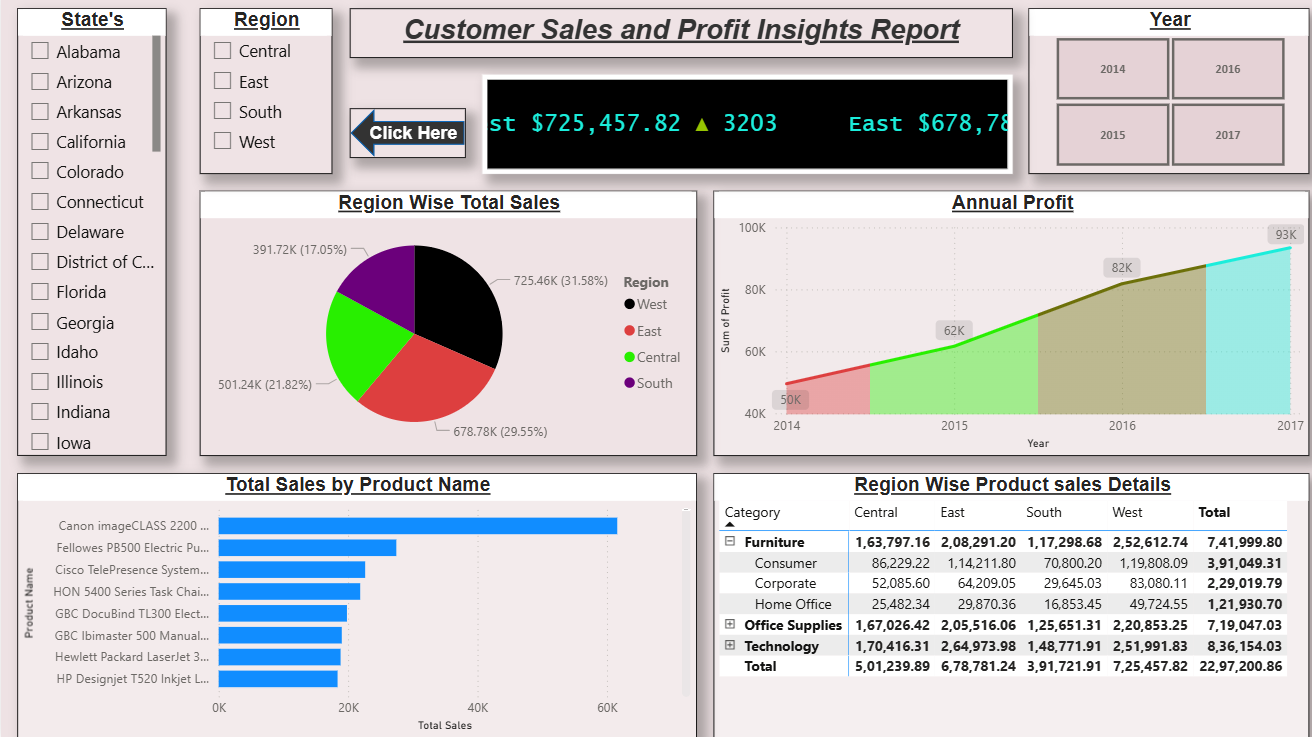

The page's visual inventory and layout, read from the dashboard file:
{"tool":"powerbi","page":{"name":"Report 4","canvas":[1280,720],"ordinal":3},"visuals":[{"type":"pieChart","title":"Region Wise Total Sales","fields":{"Category":["Orders.Region"],"Y":["Orders.Total Sales"]},"box":[192,192,480,256],"z":0},{"type":"lineChart","title":"Annual Profit ","fields":{"Category":["Orders.Order Date.Variation.Date Hierarchy.Year","Orders.Order Date.Variation.Date Hierarchy.Quarter","Orders.Order Date.Variation.Date Hierarchy.Month","Orders.Order Date.Variation.Date Hierarchy.Day"],"Y":["Sum(Orders.Profit)"]},"box":[688,192,576,256],"z":1000},{"type":"pivotTable","title":"Region Wise Product sales Details","fields":{"Rows":["Orders.Category","Orders.Segment"],"Columns":["Orders.Region"],"Values":["Orders.Total Sales"]},"box":[688,464,576,256],"z":2000},{"type":"barChart","fields":{"Category":["Orders.Product Name"],"Y":["Orders.Total Sales"]},"box":[16,464,656,256],"z":3000},{"type":"slicer","title":"Year","fields":{"Values":["Orders.Order Date.Variation.Date Hierarchy.Year"]},"box":[992,16,272,160],"z":4000},{"type":"slicer","title":"State''s","fields":{"Values":["Orders.State"]},"box":[16,16,144,432],"z":5000},{"type":"slicer","title":"Region","fields":{"Values":["Orders.Region"]},"box":[192,16,128,160],"z":6000},{"type":"shape","box":[336,112,112,48],"z":7000},{"type":"textbox","box":[336,16,640,48],"z":8000},{"type":"ScrollingTextVisual1448795304508","fields":{"Measure Absolute":["Sum(Orders.Sales)"],"Category":["Orders.Region"],"Measure Deviation":["CountNonNull(Orders.Order ID)"]},"box":[464,80,512,96],"z":9000}]}

Visuals, with their boxes in screenshot pixels (x1, y1, x2, y2), scaled from the page's 1280x720 canvas onto the 1312x737 screenshot:
"Region Wise Total Sales" pieChart: region(197, 197, 689, 459)
"Annual Profit " lineChart: region(705, 197, 1296, 459)
"Region Wise Product sales Details" pivotTable: region(705, 475, 1296, 736)
barChart - Orders.Product Name x Orders.Total Sales: region(16, 475, 689, 736)
"Year" slicer: region(1017, 16, 1296, 180)
"State''s" slicer: region(16, 16, 164, 459)
"Region" slicer: region(197, 16, 328, 180)
shape: region(344, 115, 459, 164)
textbox: region(344, 16, 1000, 66)
ScrollingTextVisual1448795304508 - Sum(Orders.Sales) x Orders.Region: region(476, 82, 1000, 180)
